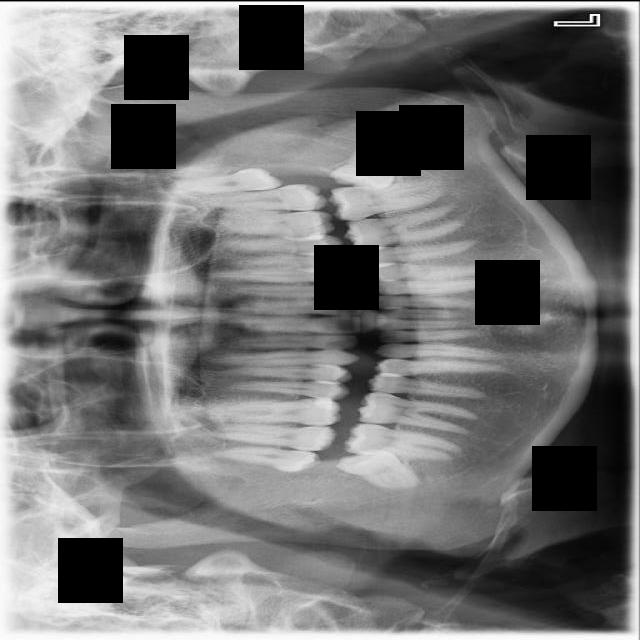3M ESPE Implant: (213, 441, 323, 474)
52: (296, 396, 341, 426)
73: (611, 14, 619, 20)
BioHorizons Implant: (201, 181, 327, 211)
BioLife Implant: (169, 165, 284, 196)
Biomet 3i Implant: (328, 125, 415, 211)
Blue Sky Bio Implant: (326, 174, 446, 223)
Caries: (214, 423, 337, 451)
Implant: (342, 420, 463, 462)
Keystone Dental Implant: (334, 432, 427, 501)
